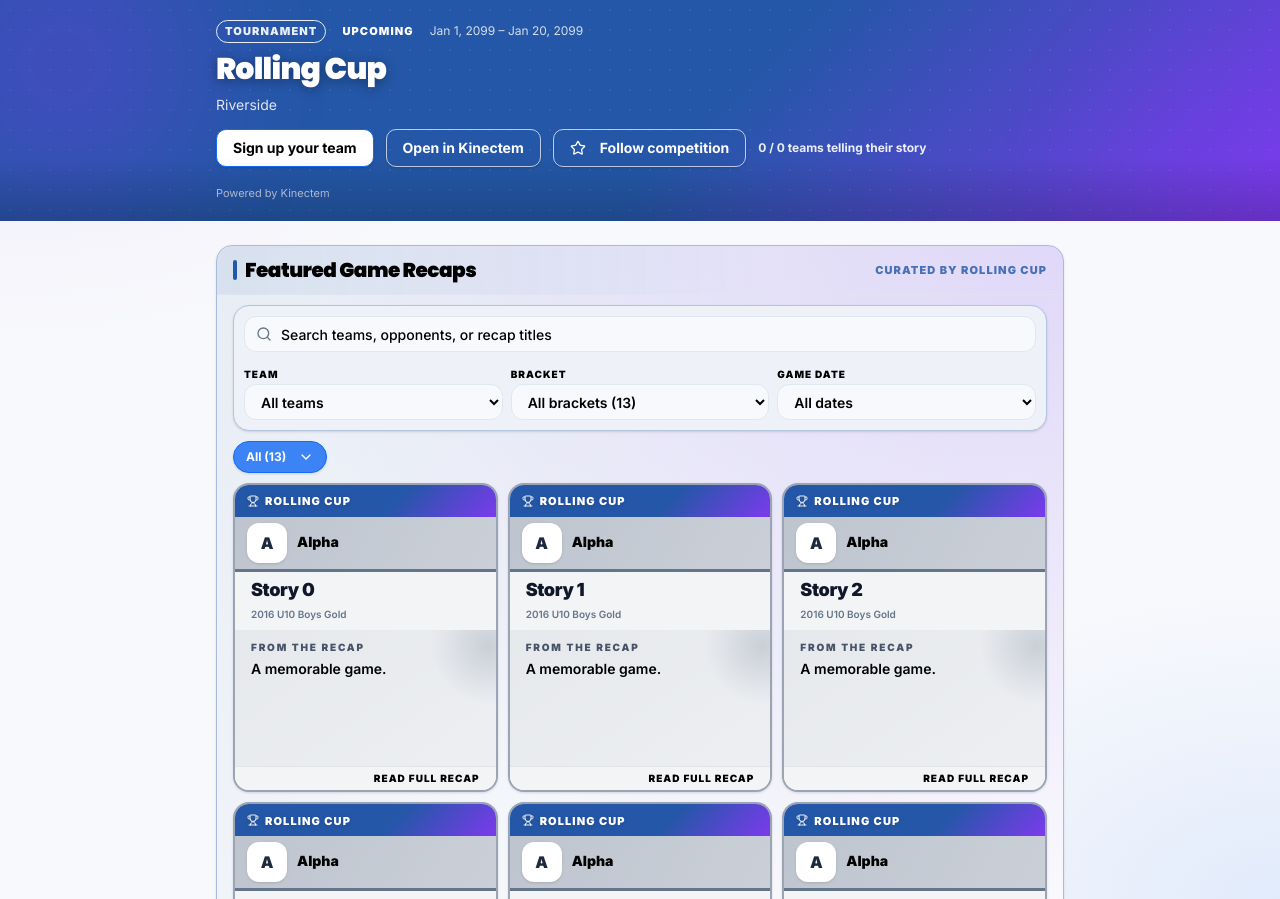
Test: competition partnership directory › lists every bracket with accurate counts, including empty brackets (13 featured)
Later steps or results of the test are not shown.
Select "2016 U10 Boys White (0)" in the dropdown labelled "Bracket". click: (640, 402)
box: 511,384 -> 769,420
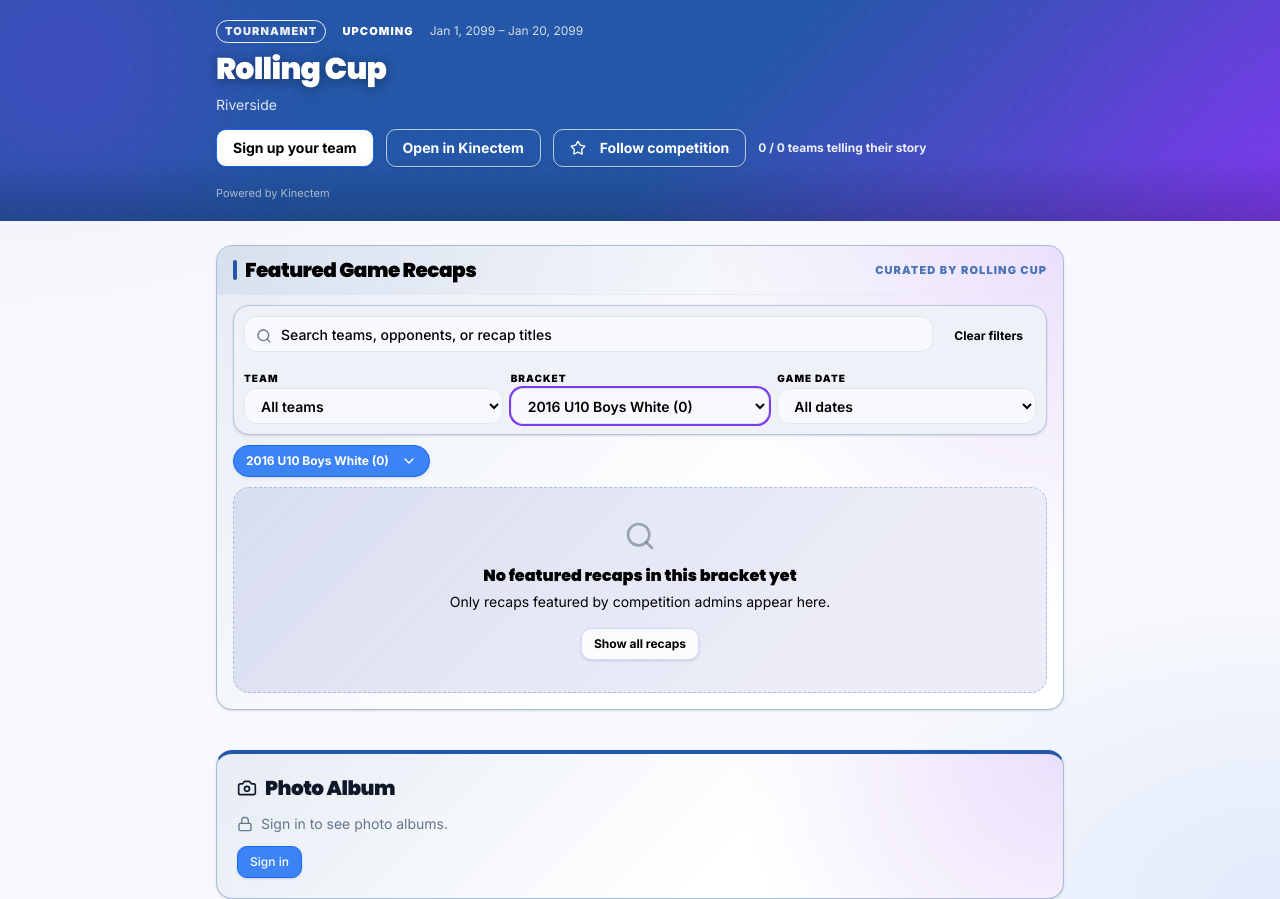
expect the element with test id "empty-recap-filters" is shown: met, box 233,487 -> 1047,693
